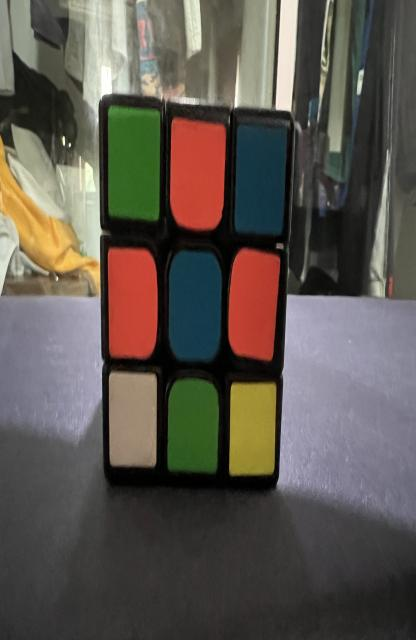Blue: (169, 250, 222, 362), (235, 125, 287, 235)
Green: (108, 105, 160, 222), (167, 378, 219, 473)
Orange: (170, 117, 227, 230), (228, 248, 280, 362), (108, 247, 158, 360)
White: (109, 370, 157, 468)
Yellow: (229, 382, 276, 477)
